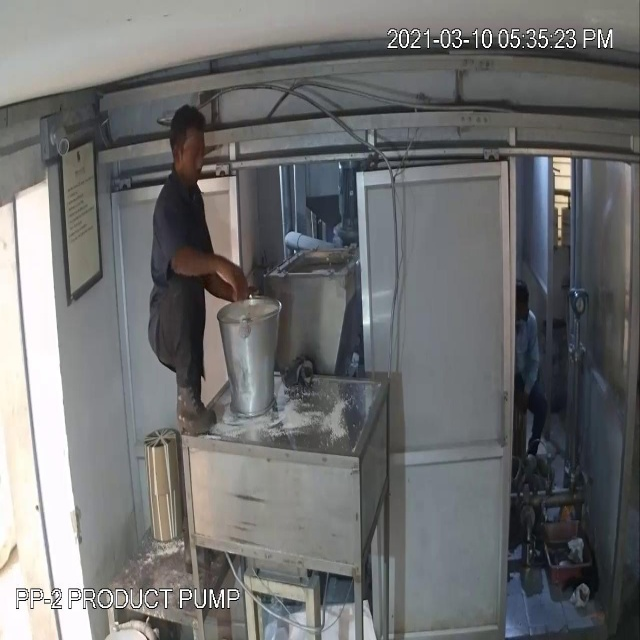Sin_guantes: (159, 227, 250, 304)
